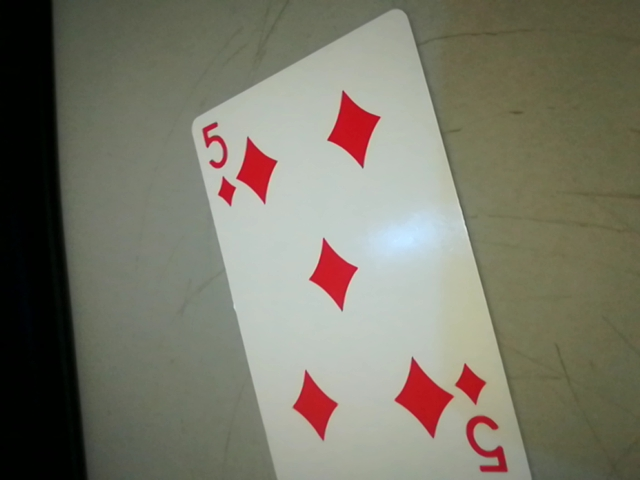fk 5: (449, 359, 517, 480)
